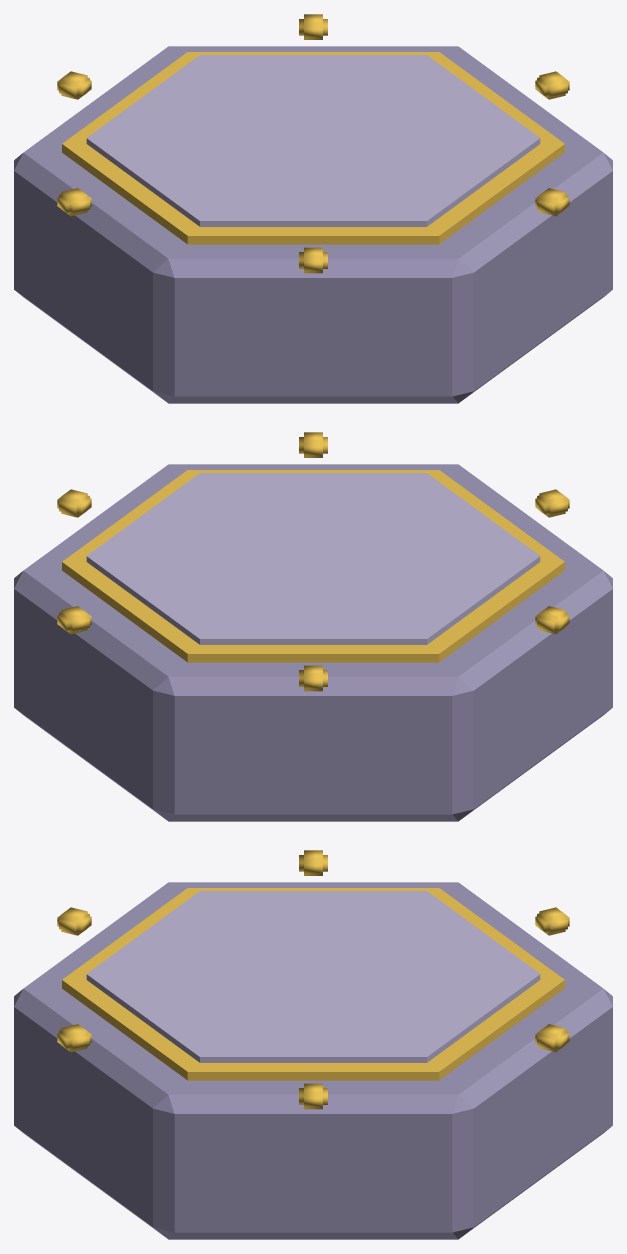
File: piso-dungeon-a.glb
3 renders of one model, top to bottom at view 1: azimuth 30°, elevation 25°; view 2: azimuth 150°, elevation 25°; view 3: azimuth 270°, elevation 25°, orthographic.
Parts seen in each view (by area): view 1: PisoA; view 2: PisoA; view 3: PisoA.
Boxes of the visible parts, box(x1,y1,x2,y2) form: PisoA: box(14, 14, 612, 403); PisoA: box(14, 432, 612, 821); PisoA: box(14, 850, 612, 1239).
Size of the model in its own units: 1.82 by 0.56 by 1.88.
